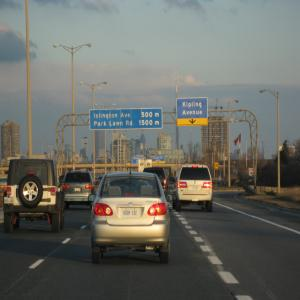Vehicle-registration-plate: (123, 207, 139, 217), (76, 188, 81, 193)
